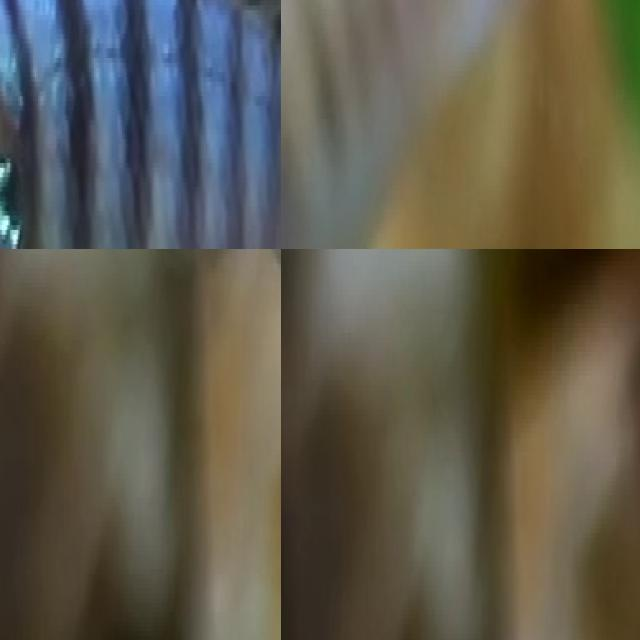fish: (0, 0, 281, 249), (441, 249, 640, 404)
